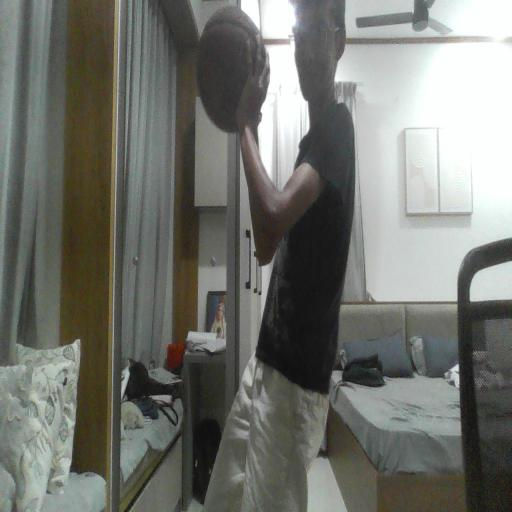basketball: (197, 6, 259, 132)
